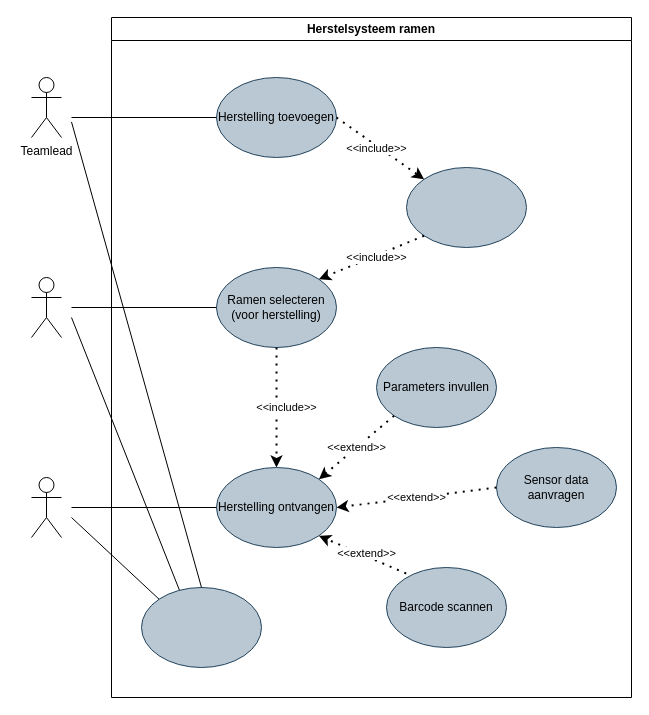
This 649x715 diagram has some shape labels left out. The centre of each missing label's shape, as x and y in pixels:
"Herstelling vrijgeven" goes at (466,207).
"Historiek bekijken" goes at (201,627).
"Schouwer" goes at (46,307).
"Technieker" goes at (46,507).
